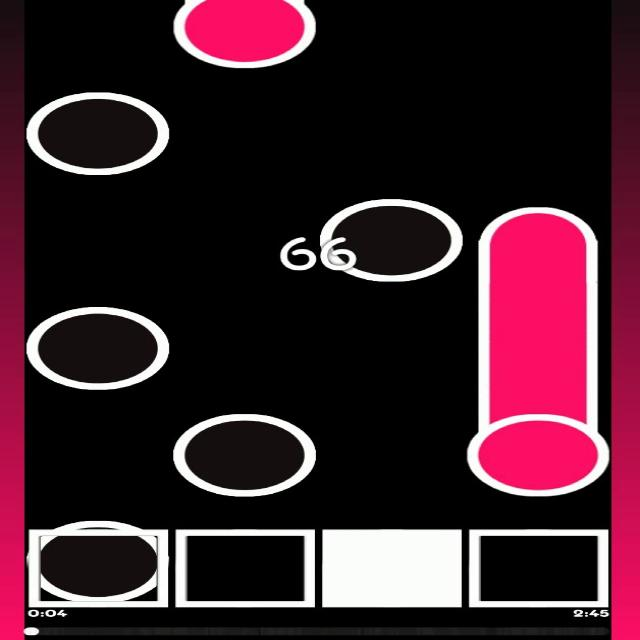end_hold: (479, 180, 598, 254)
note: (320, 197, 466, 282), (173, 412, 316, 498), (26, 306, 172, 390), (28, 92, 170, 176), (36, 521, 166, 600)
start_hold: (466, 385, 610, 495), (173, 0, 316, 69)
